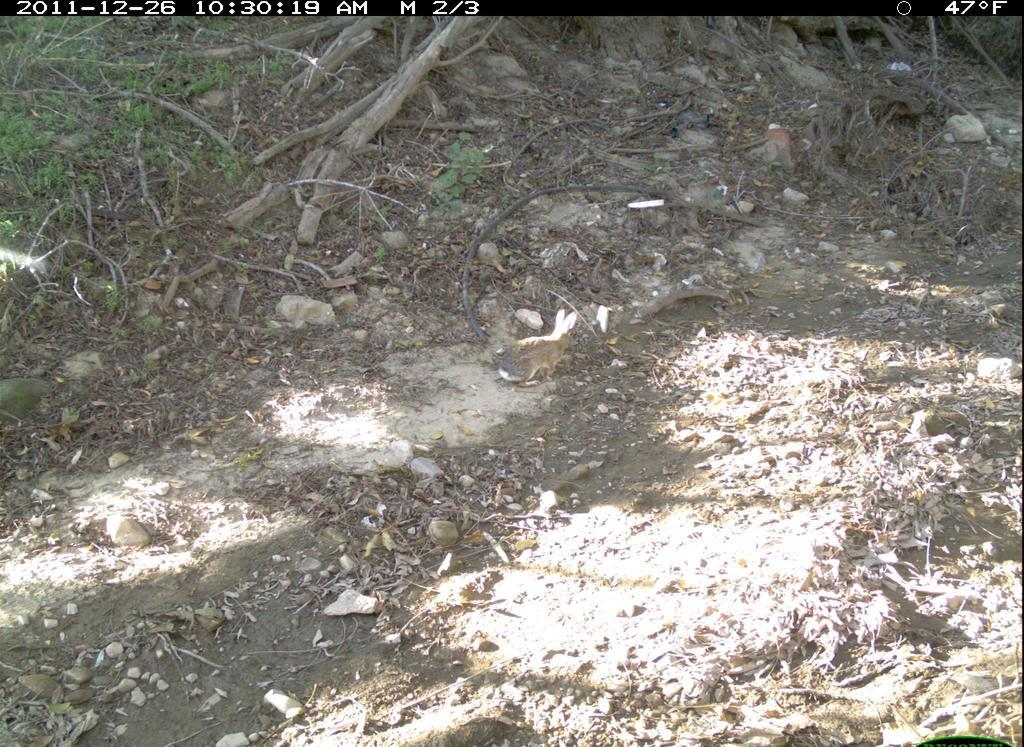rabbit: (496, 308, 579, 390)
